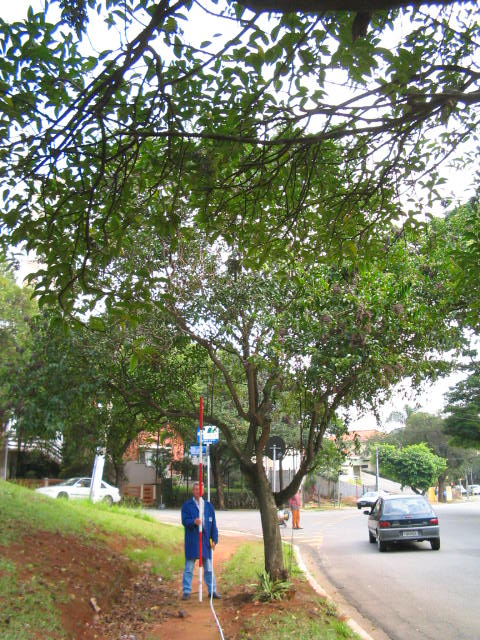crown: (49, 101, 468, 442)
stem: (248, 505, 295, 596)
stick: (192, 397, 211, 602)
tree: (45, 99, 470, 596)
